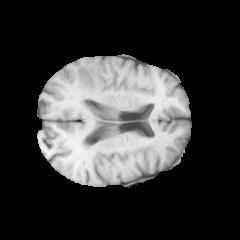glioma: (76, 65, 99, 102)
